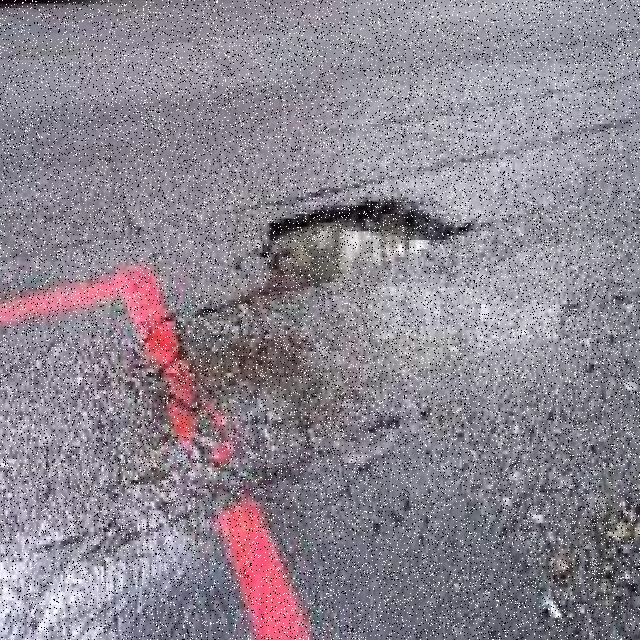pothole: (262, 201, 464, 291)
